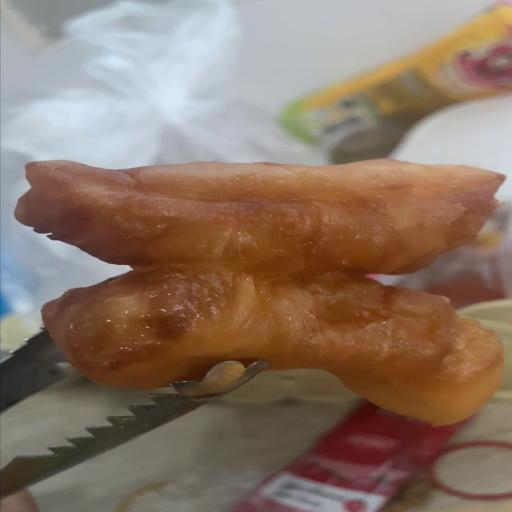street_burnt_good: (15, 159, 504, 425)
